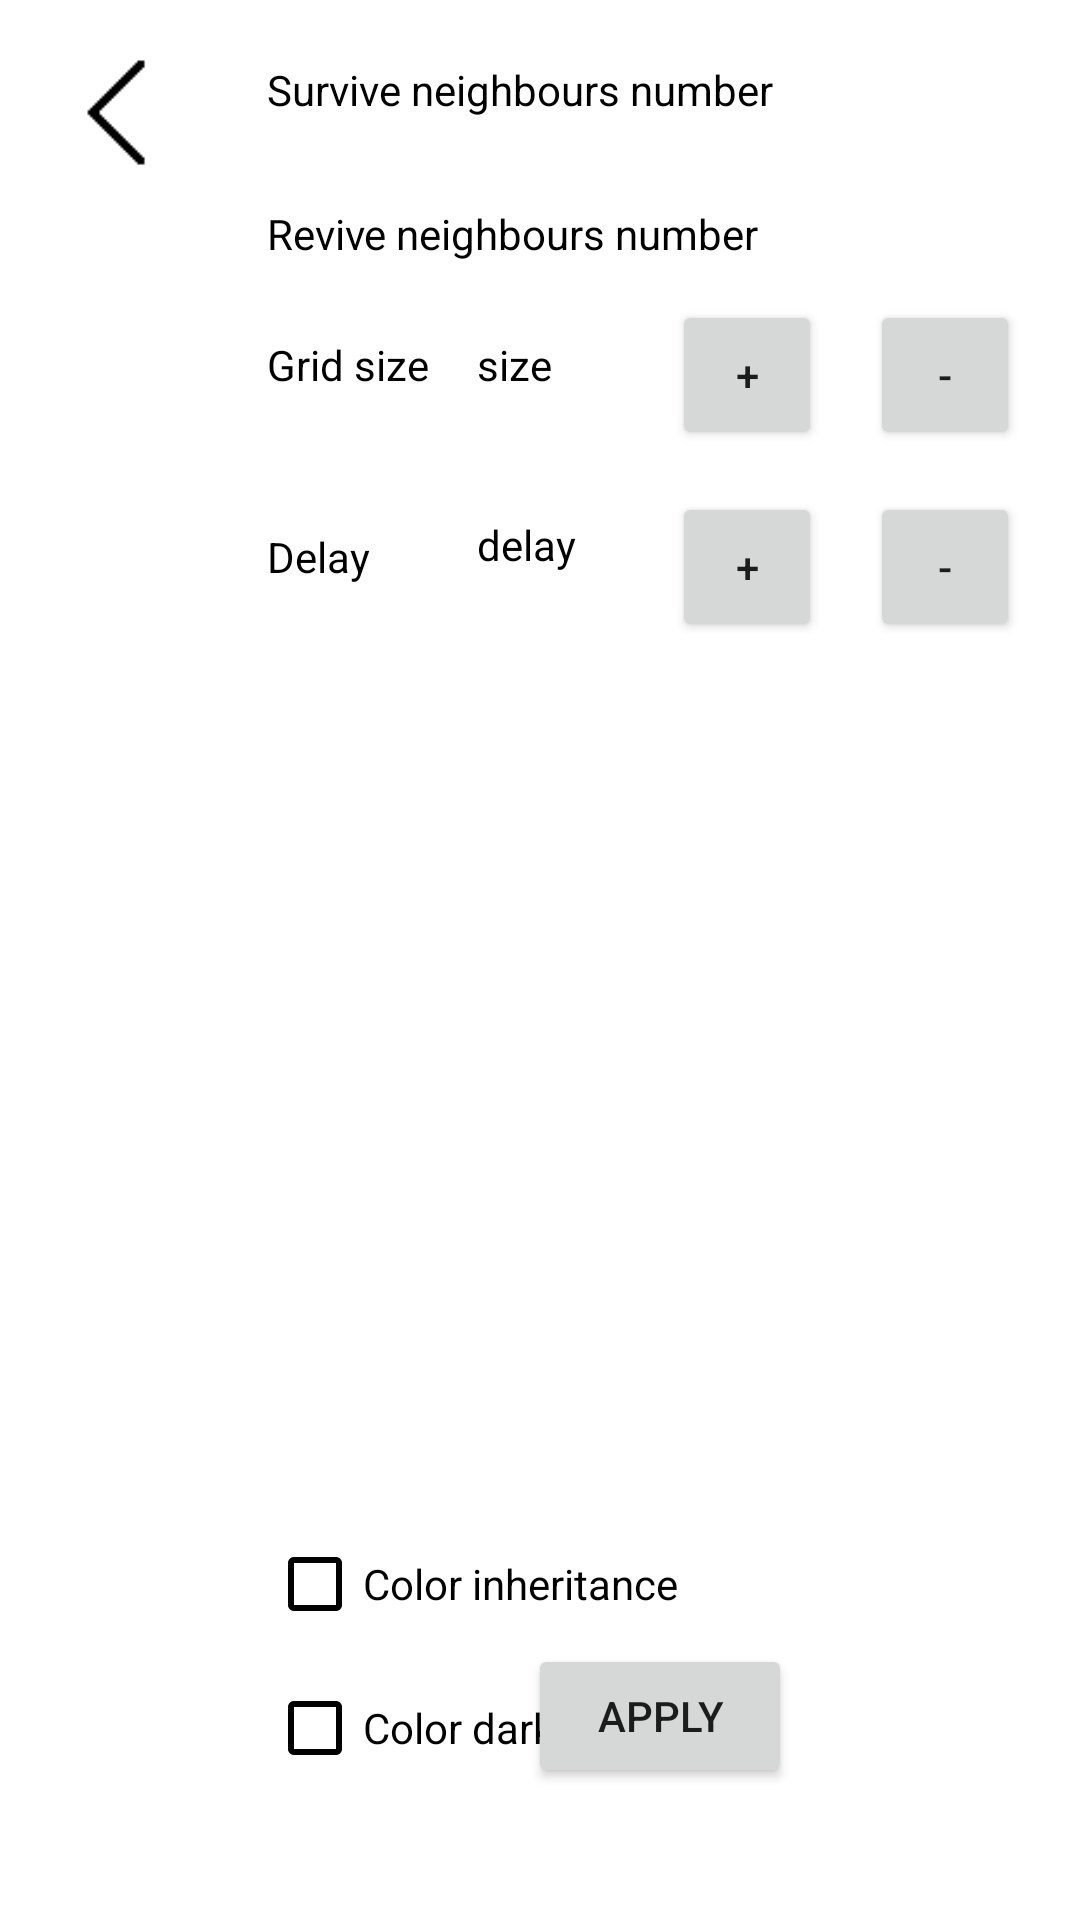

Icons on this 1080×1920 Android screen, each with the point to tap as (x,y):
left: (116,112)
